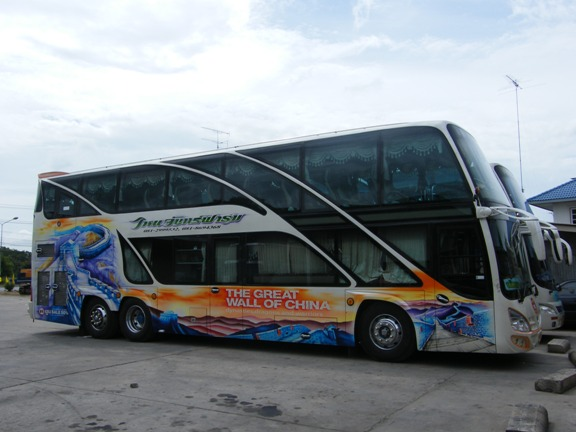bus: (27, 120, 545, 363)
